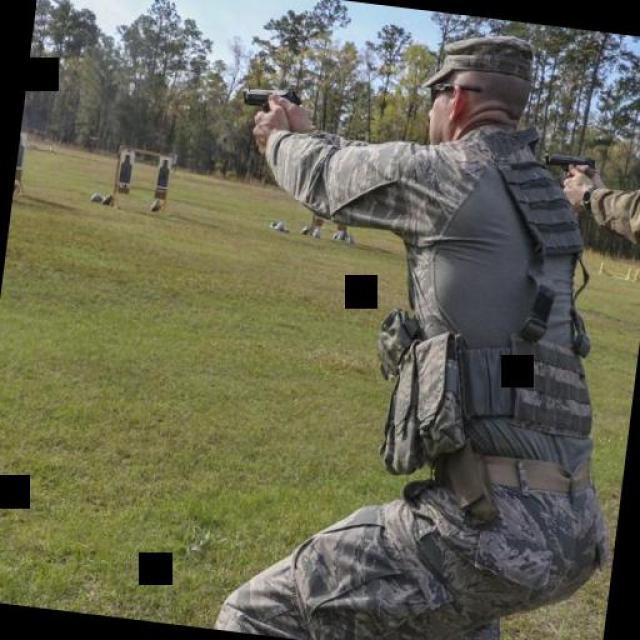gun: (235, 75, 303, 125)
